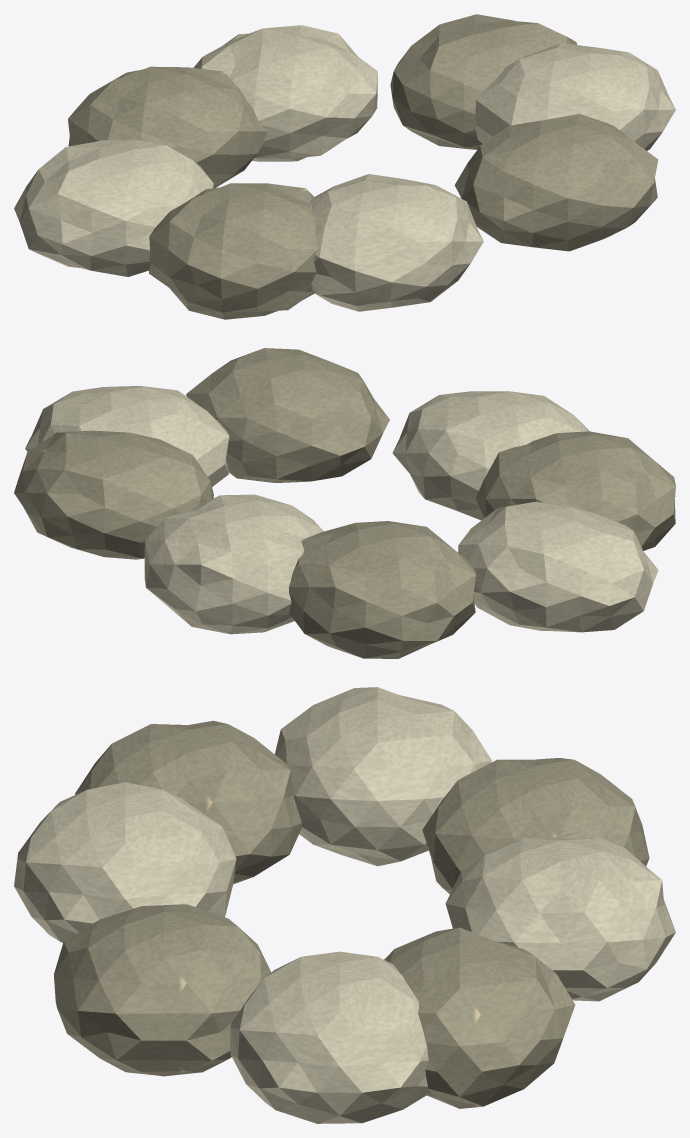
The model's file is pebbles.glb.
3 renders of one model, top to bottom at view 1: azimuth 30°, elevation 25°; view 2: azimuth 150°, elevation 25°; view 3: azimuth 270°, elevation 25°, orthographic. The views are drawn at different scales.
Parts seen in each view (by area): view 1: static_ornament; view 2: static_ornament; view 3: static_ornament.
Boxes of the visible parts, x1,y1,x2,y2 form: static_ornament: (14,14,675,319); static_ornament: (14,348,675,658); static_ornament: (14,687,675,1123).
Bounding box in the file's own units: 1.11 × 0.1871 × 0.8357.
Materials: 1 (1 with a texture image).
